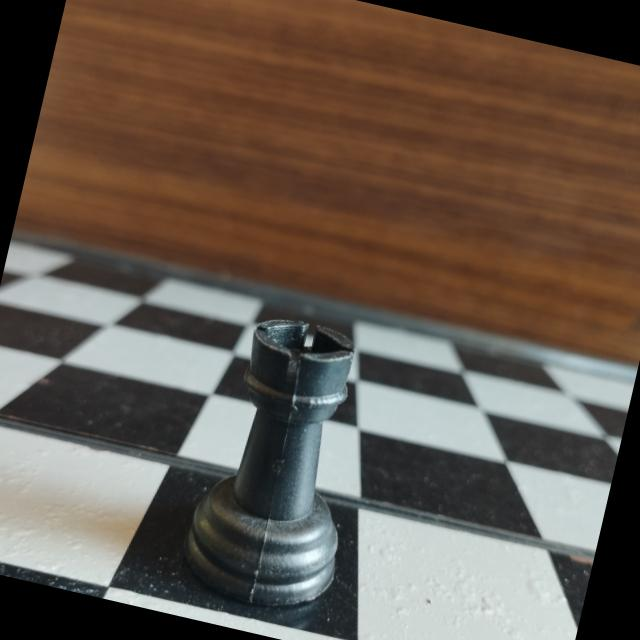Black Rook: (171, 299, 394, 627)
